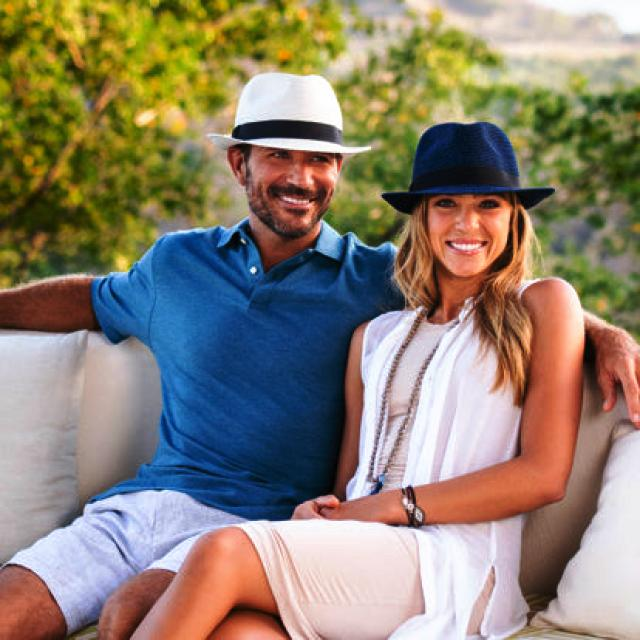TOPI: (372, 110, 560, 229), (206, 67, 376, 170)
